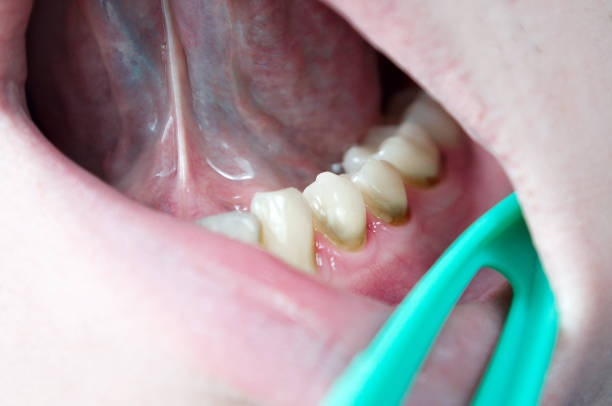Caries: (319, 212, 384, 260), (405, 143, 461, 198), (356, 189, 421, 235)
